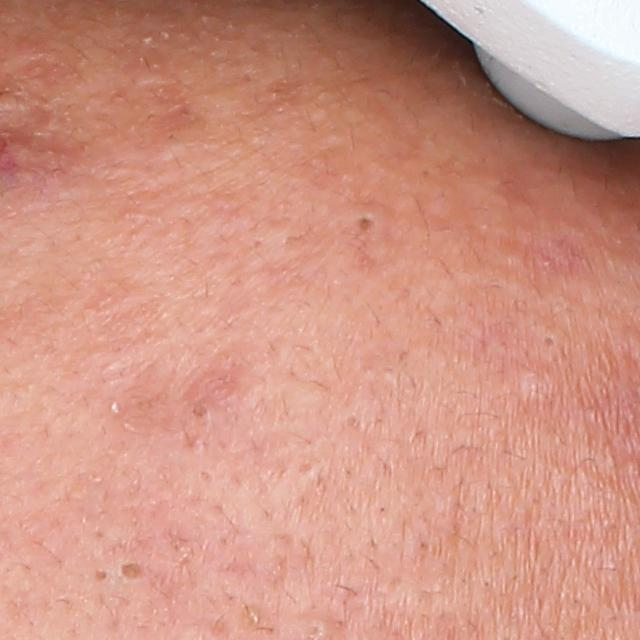comedo: (182, 397, 218, 431), (118, 561, 148, 584), (518, 366, 541, 396), (536, 331, 565, 353), (93, 565, 113, 587), (105, 399, 123, 418)
